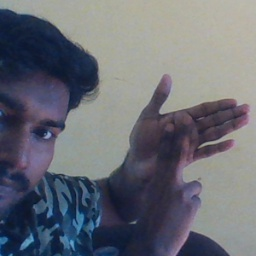N: (116, 74, 252, 227)
